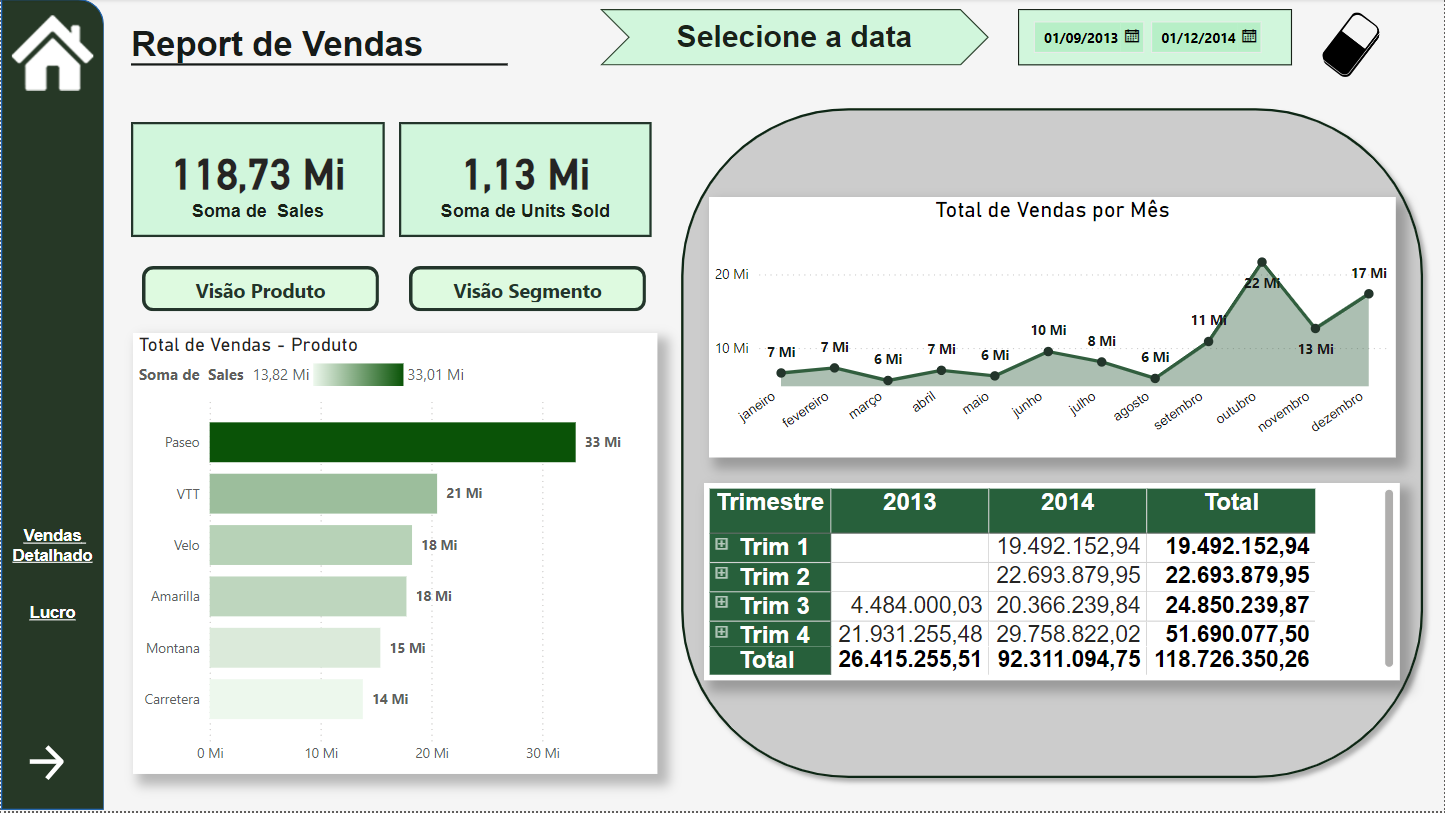

The dashboard page shown, as its layout file describes it:
{"tool":"powerbi","page":{"name":"Vendas","canvas":[1280,720],"ordinal":0},"visuals":[{"type":"image","title":"Imagem - Home","box":[0,0,91.4,95.3],"z":0,"group":"g2"},{"type":"shape","box":[594.3,87.4,675.9,612],"z":0},{"type":"clusteredBarChart","title":"Total de Vendas - Produto","fields":{"Y":["Sum(financials. Sales)"],"Category":["financials.Product"]},"box":[116.9,295.9,464.7,391],"z":0,"group":"g1"},{"type":"textbox","title":"Menu Paginas","box":[0,461.7,91.4,110],"z":0,"group":"g3"},{"type":"actionButton","title":"B- Home - Pag3","box":[0,7.9,91.4,77.6],"z":1000,"group":"g2"},{"type":"card","fields":{"Values":["Sum(financials. Sales)"]},"box":[114.9,109,225,102.2],"z":1000},{"type":"actionButton","title":"B- Página Vendas De","box":[8.8,461.7,73.7,40.3],"z":1000,"group":"g3"},{"type":"slicer","fields":{"Values":["financials.Date"]},"box":[901.8,8.8,242.6,50.1],"z":2000},{"type":"actionButton","title":"B - Segmento","box":[361.5,236.9,210.2,40.3],"z":2000,"group":"g1"},{"type":"actionButton","title":"B- Página Lucro","box":[8.8,528.5,73.7,28.5],"z":2000,"group":"g3"},{"type":"lineChart","title":"Total de Vendas por Mês","fields":{"Y":["Sum(financials. Sales)"],"Category":["financials.Date.Variation.Hierarquia de datas.Ano","financials.Date.Variation.Hierarquia de datas.Mês"]},"box":[627.7,175.8,609.1,230.9],"z":3000},{"type":"actionButton","title":"B - Produto","box":[124.8,236.9,210.2,40.3],"z":3000,"group":"g1"},{"type":"card","fields":{"Values":["Sum(financials.Units Sold)"]},"box":[352.7,109,224,102.2],"z":4000},{"type":"shape","box":[531.5,8.8,344.8,50.1],"z":5000},{"type":"shape","box":[0,0,91.4,719.1],"z":6000},{"type":"actionButton","title":"Prox página","box":[19.6,657.2,50.1,40.3],"z":7000},{"type":"shape","box":[114.9,22.6,334,71.7],"z":8000},{"type":"image","box":[1153.3,6.9,87.4,66.8],"z":9000},{"type":"actionButton","box":[1153.3,6.9,78.6,66.8],"z":10000},{"type":"group","id":"g1","title":"Gráficos Vendas Bar","box":[114.9,236.9,466.7,450],"z":11000},{"type":"pivotTable","fields":{"Rows":["financials.Date.Variation.Hierarquia de datas.Trimestre","financials.Date.Variation.Hierarquia de datas.Mês"],"Columns":["financials.Date.Variation.Hierarquia de datas.Ano"],"Values":["Sum(financials. Sales)"]},"box":[623.8,429.3,616.9,174.9],"z":12000},{"type":"group","id":"g2","title":"Home Page","box":[0,0,91.4,95.3],"z":13000},{"type":"group","id":"g3","title":"Menu pagina","box":[0,461.7,91.4,110],"z":14000}]}

Visuals, with their boxes in screenshot pixels (x1, y1, x2, y2), scaled from the page's 1280x720 canvas onto the 1445x813 screenshot:
"Imagem - Home" image: detection(0, 0, 103, 108)
shape: detection(671, 99, 1434, 790)
"Total de Vendas - Produto" clusteredBarChart: detection(132, 334, 657, 776)
"Menu Paginas" textbox: detection(0, 521, 103, 646)
"B- Home - Pag3" actionButton: detection(0, 9, 103, 97)
card - Sum(financials. Sales): detection(130, 123, 384, 238)
"B- Página Vendas De" actionButton: detection(10, 521, 93, 567)
slicer - financials.Date: detection(1018, 10, 1292, 67)
"B - Segmento" actionButton: detection(408, 267, 645, 313)
"B- Página Lucro" actionButton: detection(10, 597, 93, 629)
"Total de Vendas por Mês" lineChart: detection(709, 199, 1396, 459)
"B - Produto" actionButton: detection(141, 267, 378, 313)
card - Sum(financials.Units Sold): detection(398, 123, 651, 238)
shape: detection(600, 10, 989, 67)
shape: detection(0, 0, 103, 812)
"Prox página" actionButton: detection(22, 742, 79, 788)
shape: detection(130, 26, 507, 106)
image: detection(1302, 8, 1401, 83)
actionButton: detection(1302, 8, 1391, 83)
"Gráficos Vendas Bar" group: detection(130, 267, 657, 776)
pivotTable - financials.Date.Variation.Hierarquia de datas.Trimestre x financials.Date.Variation.Hierarquia de datas.Mês: detection(704, 485, 1401, 682)
"Home Page" group: detection(0, 0, 103, 108)
"Menu pagina" group: detection(0, 521, 103, 646)
